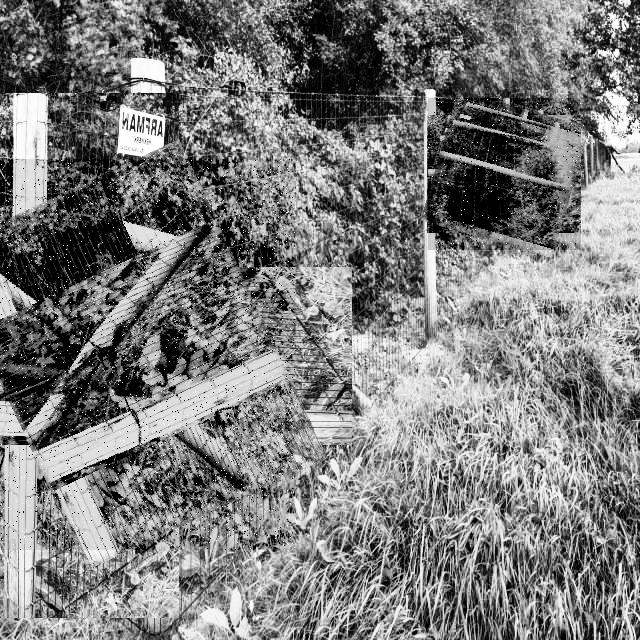fences: (0, 159, 295, 550), (428, 98, 581, 250)
